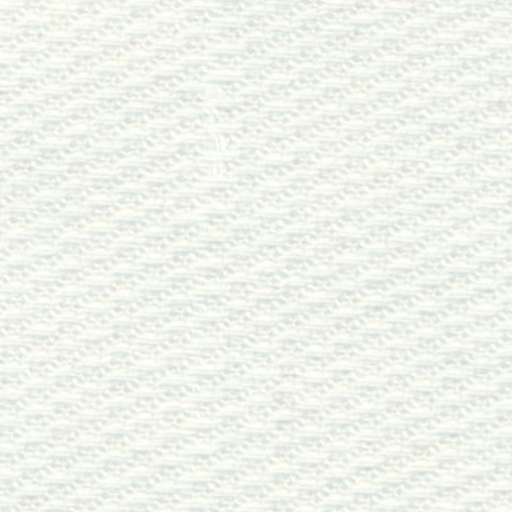TuoSha: (162, 19, 258, 498)
